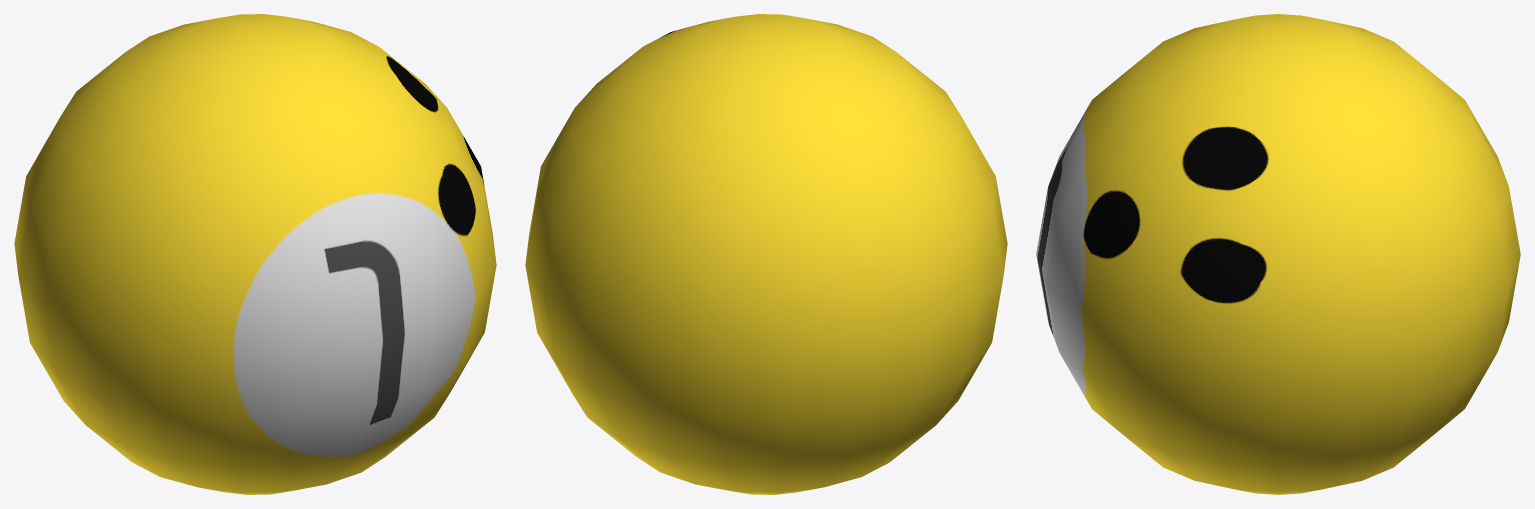
Rendered from qiu_03.FBX.
3 renders of one model, left to right at view 1: azimuth 30°, elevation 25°; view 2: azimuth 150°, elevation 25°; view 3: azimuth 270°, elevation 25°, orthographic.
Parts seen in each view (by area): view 1: qiu_03; view 2: qiu_03; view 3: qiu_03.
Part boxes in pixels (<box>): qiu_03: <box>14,14,496,494</box>; qiu_03: <box>525,14,1007,494</box>; qiu_03: <box>1036,14,1520,494</box>.
Size of the model in its own units: 592 by 592 by 592.
1 material, 1 textured.
